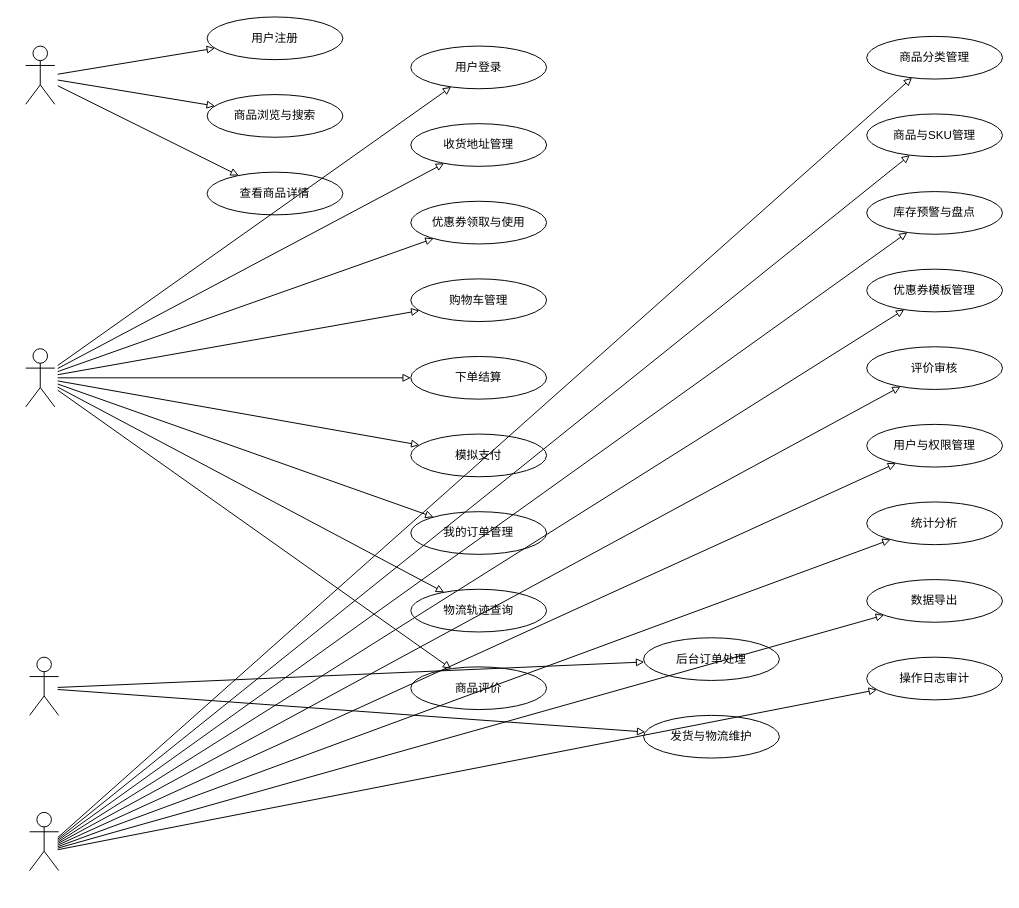
The diagram is 1019 pixels wide and 908 high, and some of its shapes have lost their labels. Here are the shapes that lost their labels. From the top down, the centre of each, then its label:
the point at 40,74: 游客
the point at 40,377: 普通用户
the point at 44,685: 客服
the point at 44,841: 管理者
